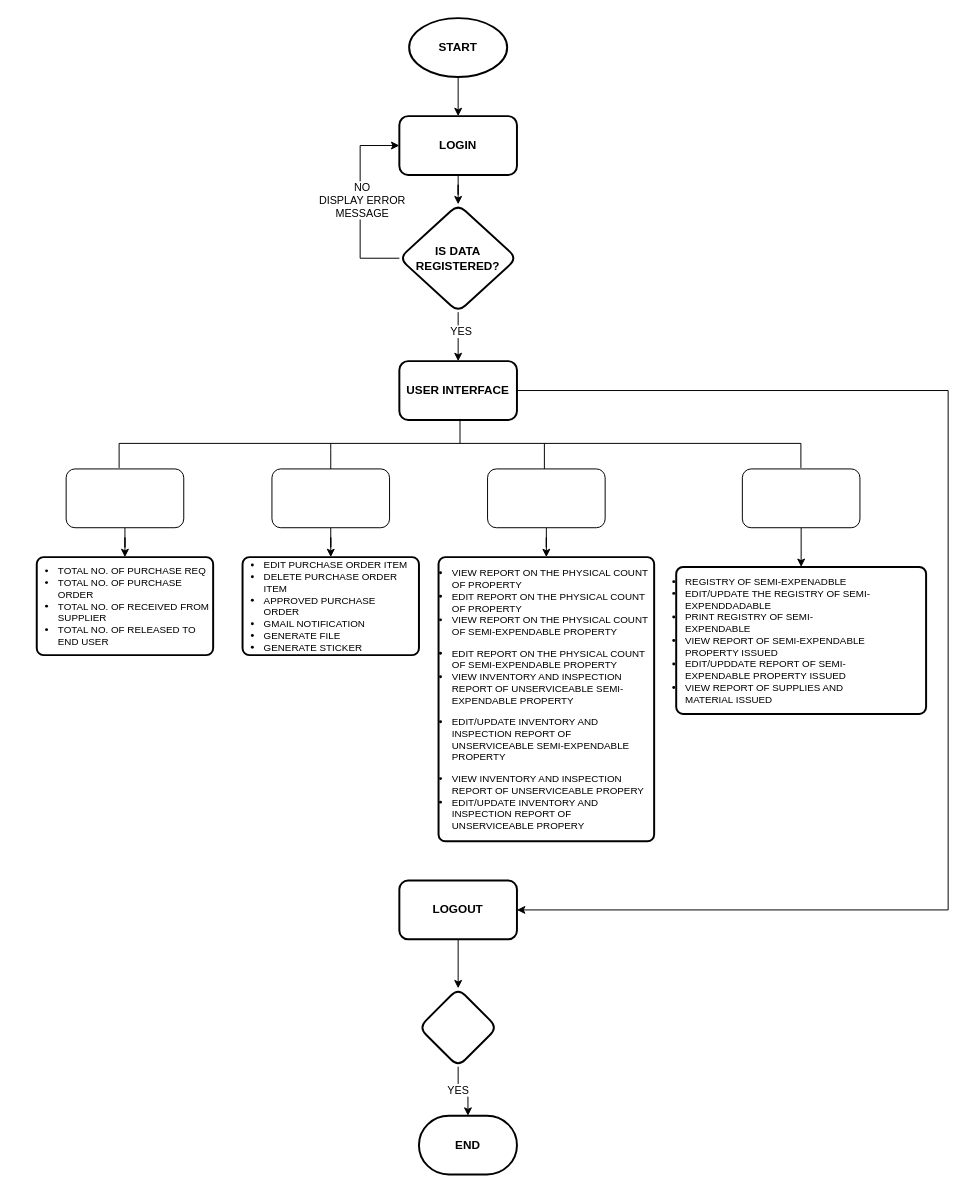
Some shapes in this 973 by 1192 pixel diagram are drawn without their labels. Each missing label, with the box of its shape:
ARE YOU SURE?: (417, 987, 498, 1067)
DASHBOARD: (65, 468, 184, 528)
INVENTORY: (487, 468, 605, 528)
PURCHASE ORDER: (271, 468, 390, 528)
REPORT: (741, 468, 860, 528)
